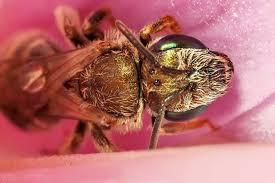Seladonia: (1, 8, 247, 153)
